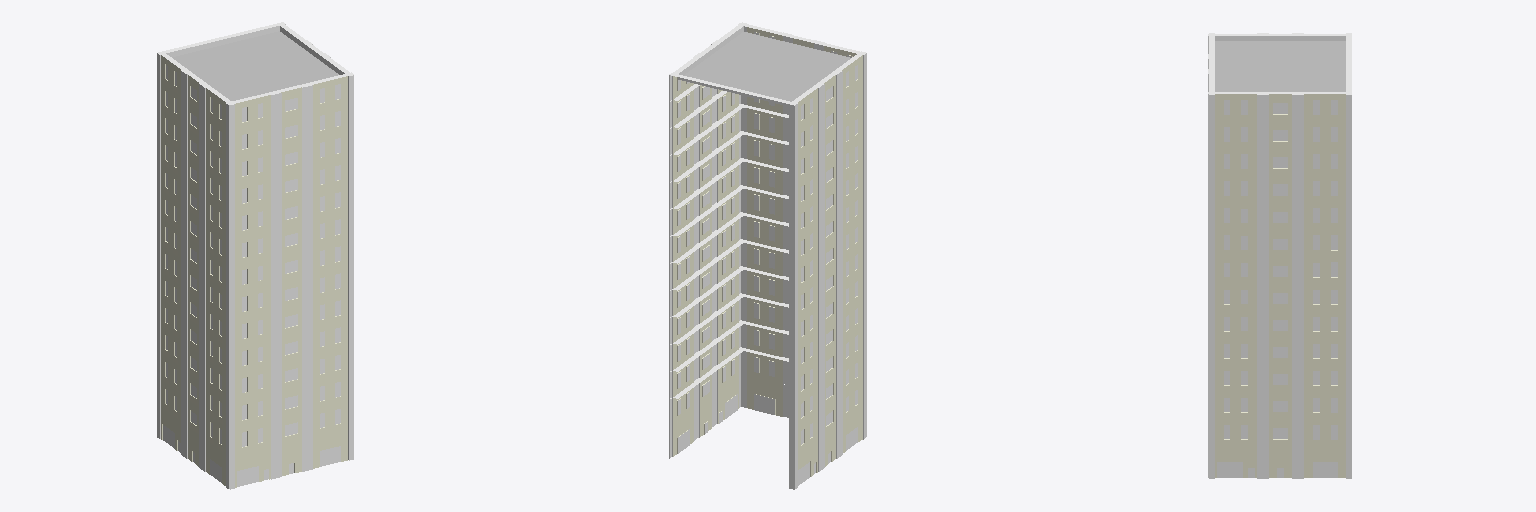
The model's file is TallBuilding2.obj.
3 views of the same model, side by side, from view 1: azimuth 30°, elevation 25°; view 2: azimuth 150°, elevation 25°; view 3: azimuth 270°, elevation 25° (orthographic).
Visible parts, largest first — view 1: TallBuilding2; view 2: TallBuilding2; view 3: TallBuilding2.
Part boxes in pixels (x1,y1,x2,y2): TallBuilding2: (157,22,353,489); TallBuilding2: (669,22,866,489); TallBuilding2: (1208,33,1351,478).
Bounding box in the file's own units: 24.36 × 71 × 24.19.